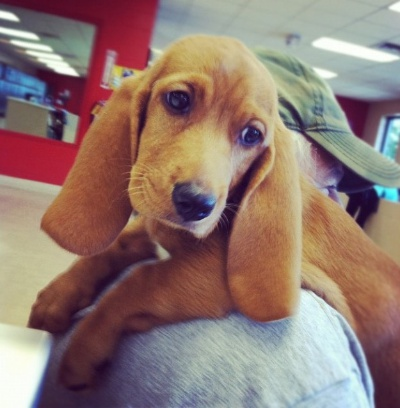daisy: (45, 21, 308, 315)
